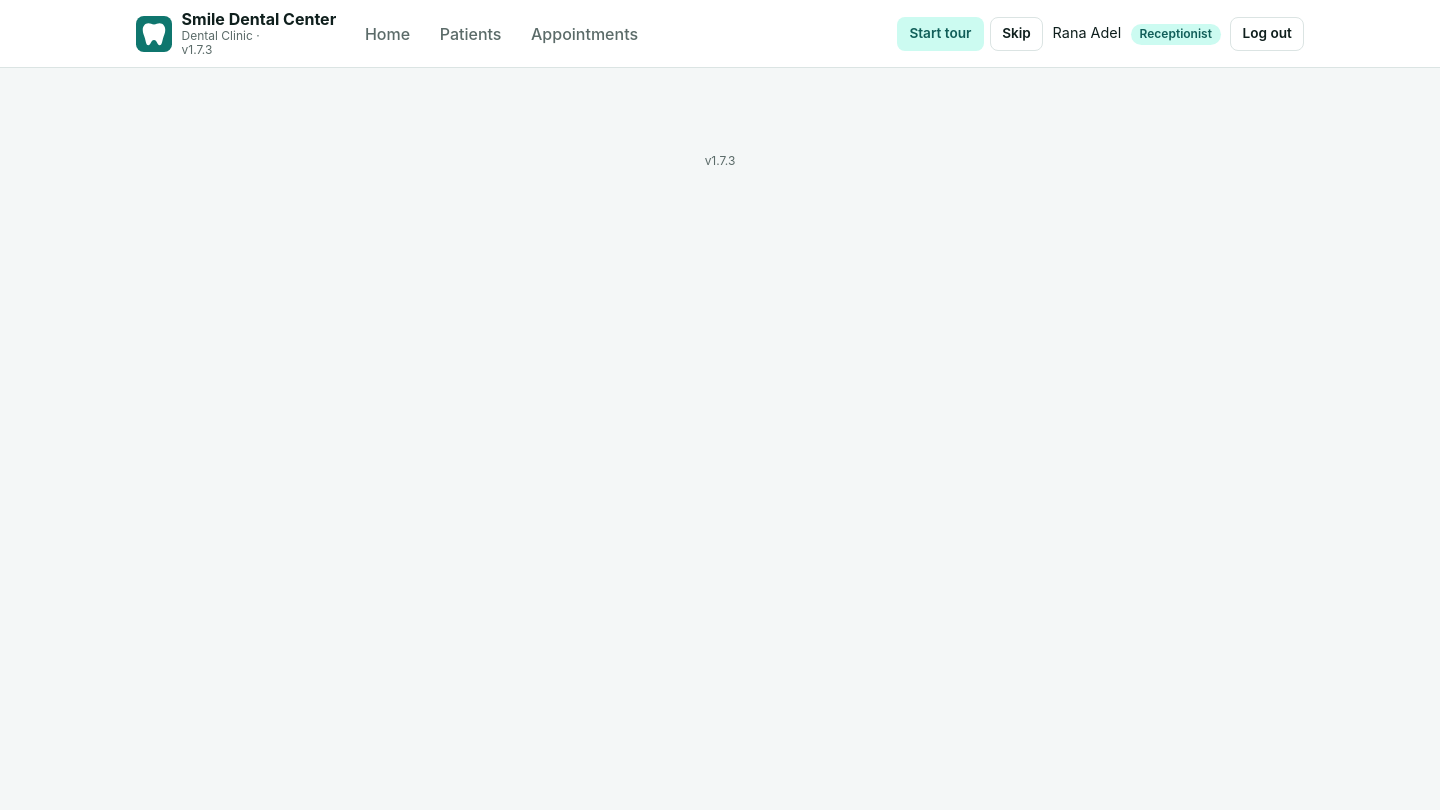
Test case: ProductTour › can start, pause, continue, and skip the tour
Click the button "Start tour". click: (940, 34)
box: [897,17,984,51]
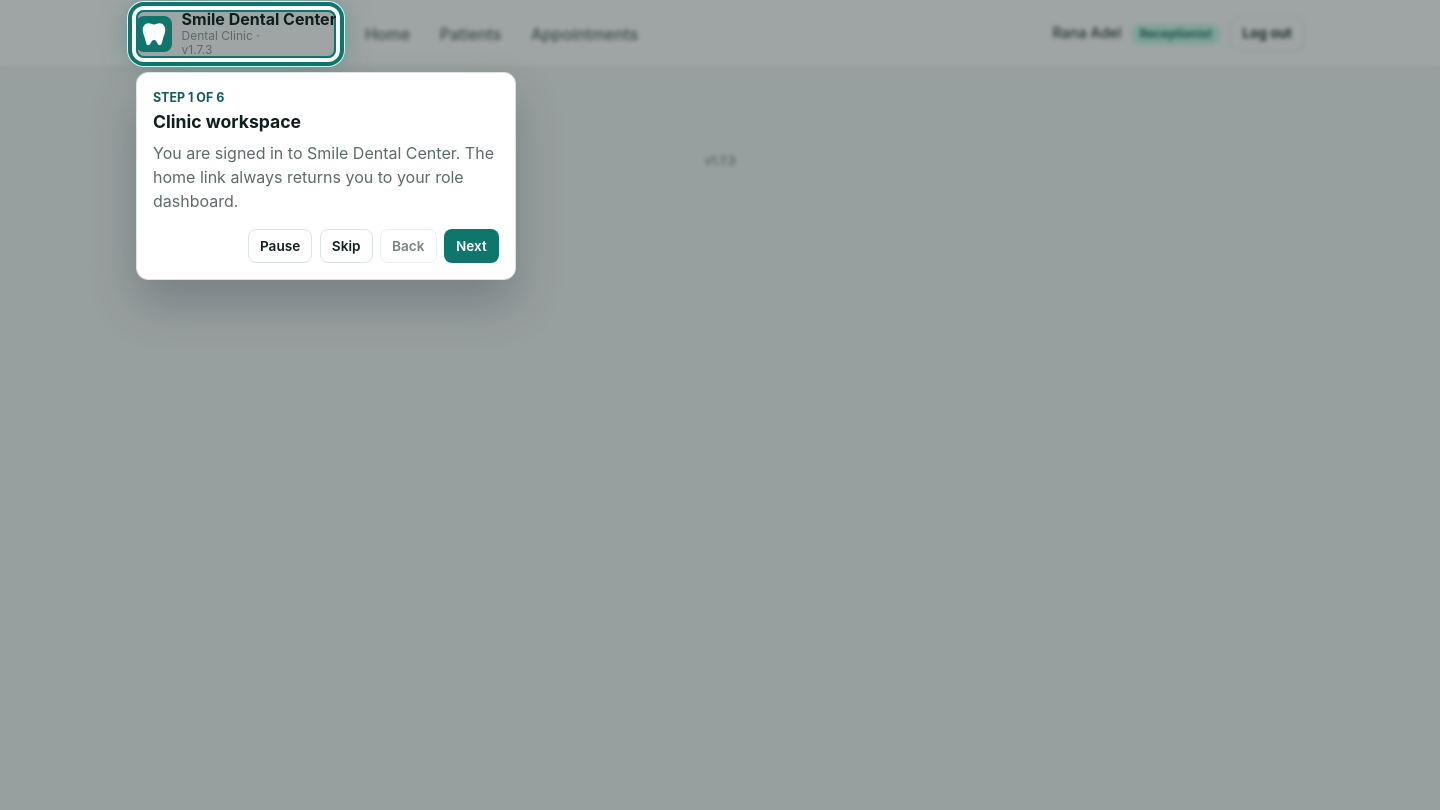
Check: the heading "Clinic workspace" is shown, box [153,111,301,132]
Click the button "Pause". click: (280, 246)
box: [248,229,312,263]
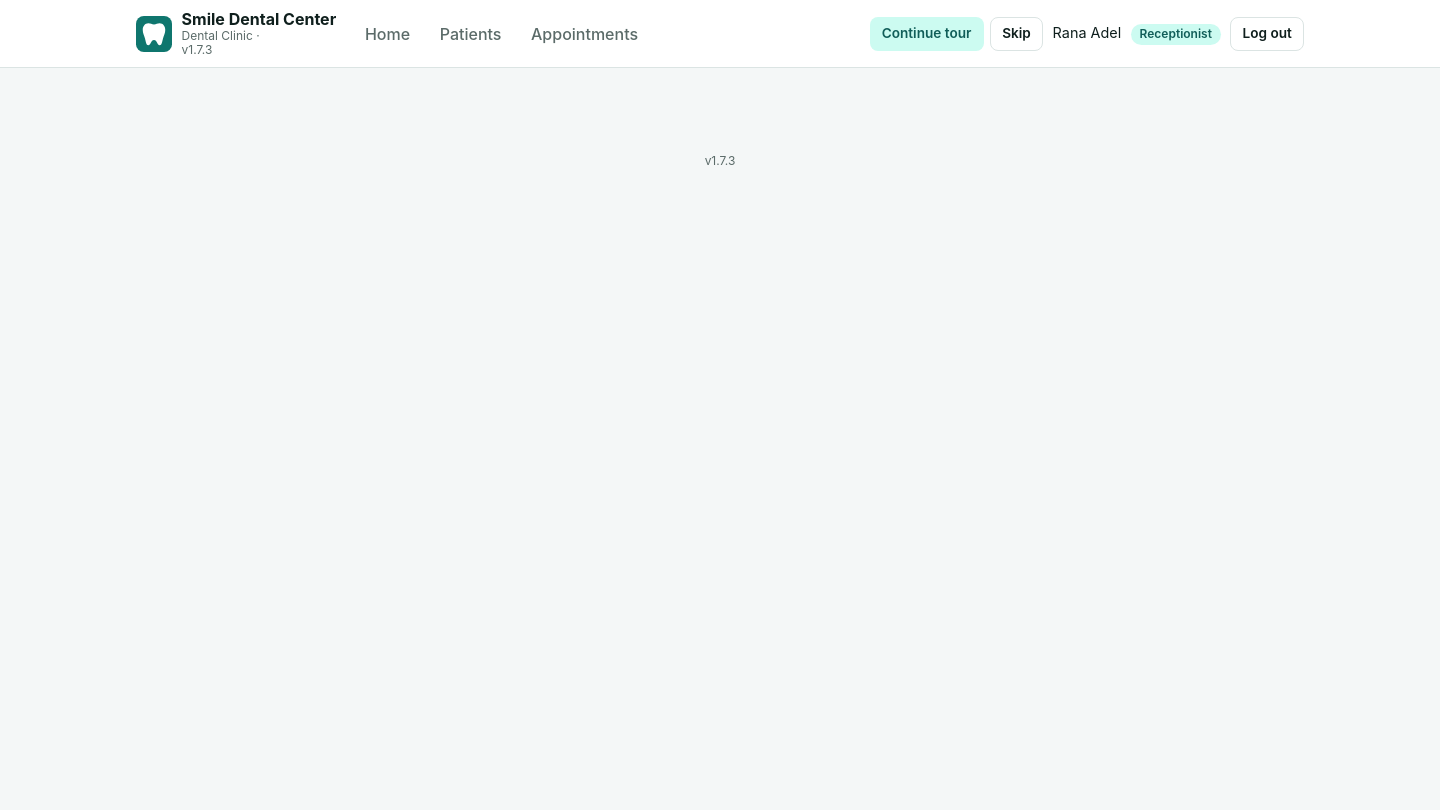
Check: the heading "Clinic workspace" is gone
Click the button "Continue tour". click: (927, 34)
box: [870,17,984,51]
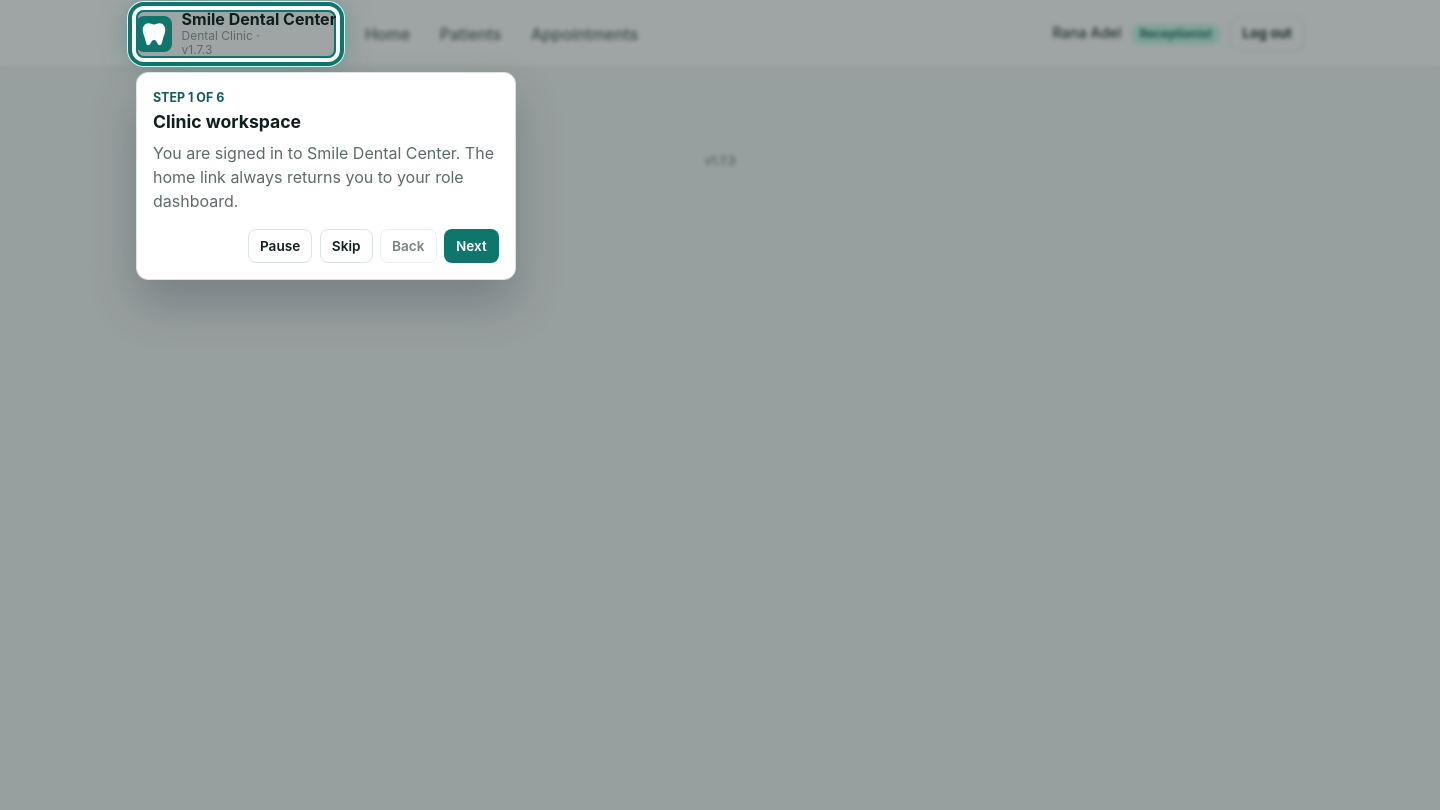
Check: the text "Step 1 of 6" is shown, box [153,90,224,105]
Click the button "Skip". click: (346, 246)
box: [320,229,373,263]
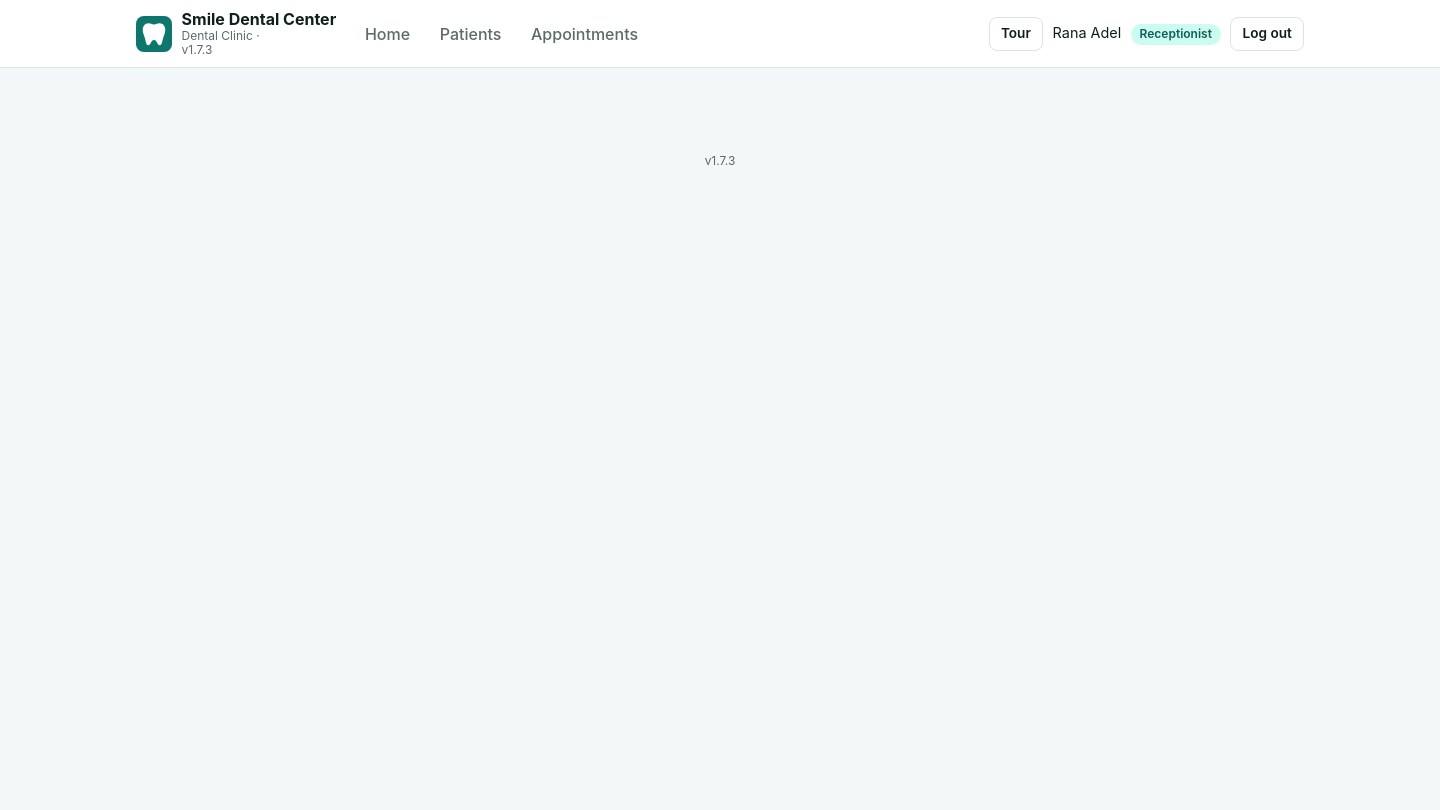
Check: the button "Tour" is shown, box [989,17,1043,51]
